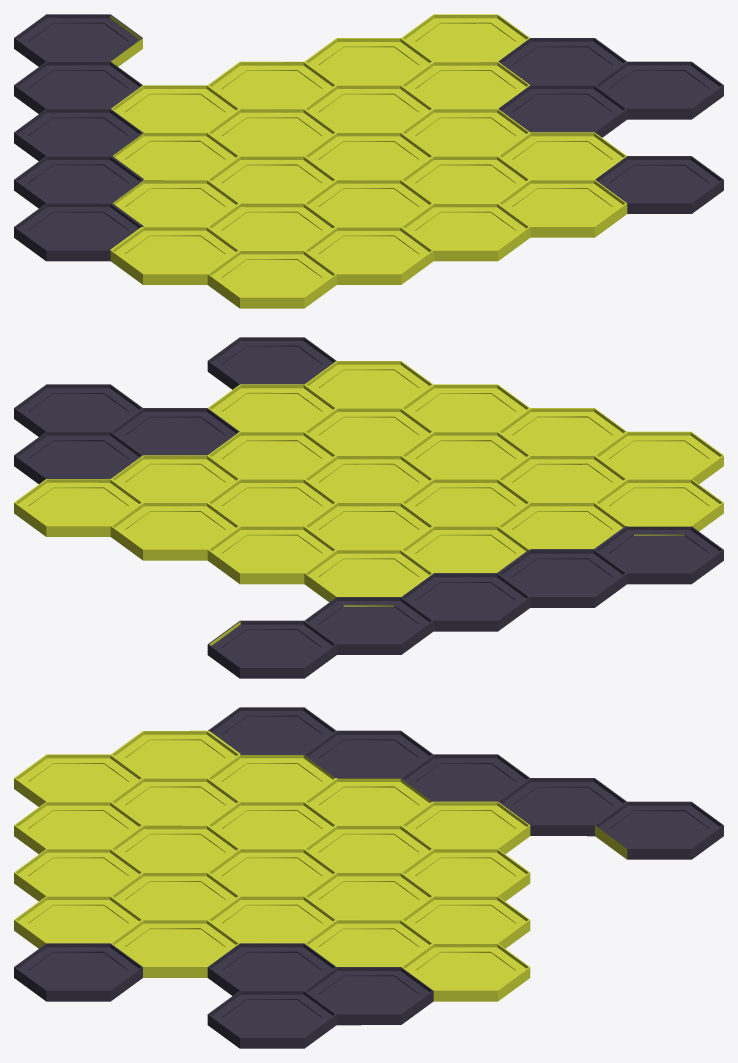
The model's file is MoldInsertStage2_3.fbx.
The picture shows the model from 3 angles, top to bottom: view 1: azimuth 30°, elevation 25°; view 2: azimuth 150°, elevation 25°; view 3: azimuth 270°, elevation 25°; orthographic projection.
Visible parts, largest first — view 1: MoldInsertStage2_3; view 2: MoldInsertStage2_3; view 3: MoldInsertStage2_3.
Part boxes in pixels (x1,y1,x2,y2): MoldInsertStage2_3: (14,14,723,308); MoldInsertStage2_3: (14,337,723,678); MoldInsertStage2_3: (14,707,723,1048).
Size of the model in its own units: 1274 by 19.68 by 1156.
